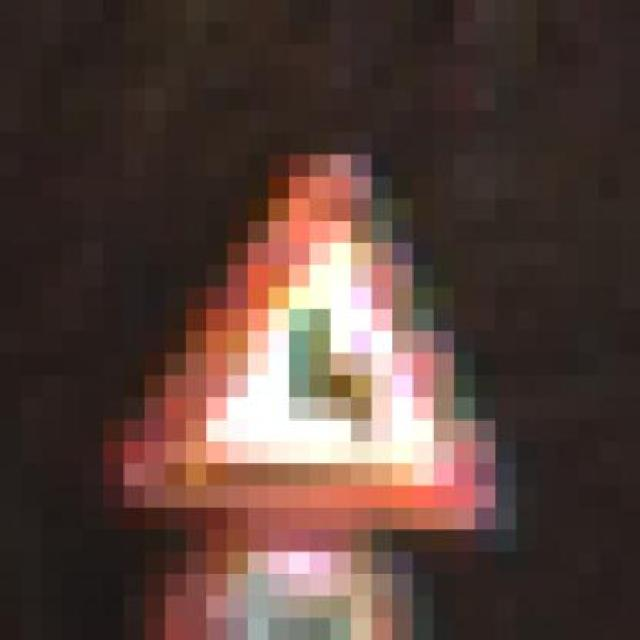Left Zig Zag Traffic: (103, 132, 517, 530)
